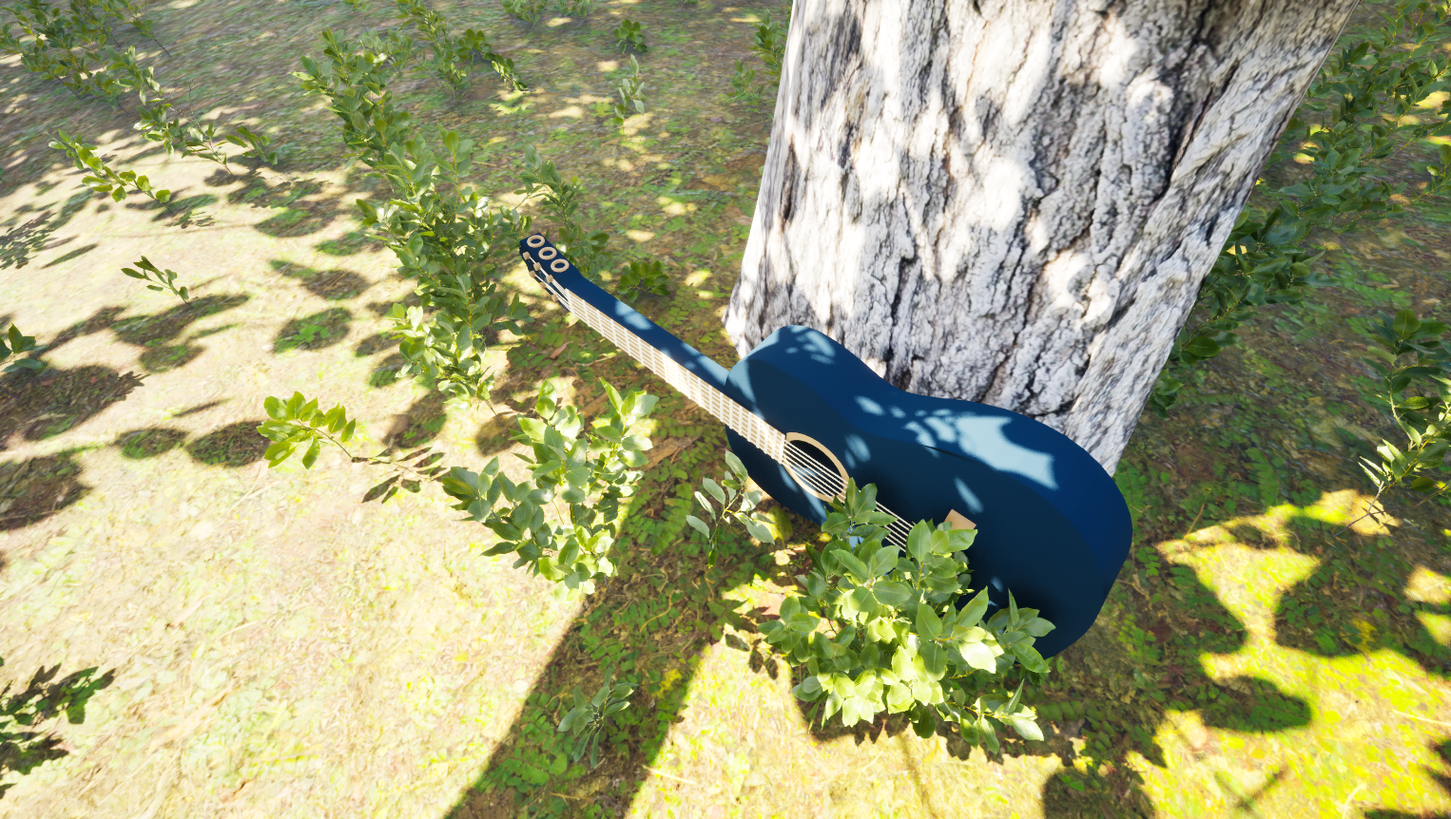Guitar: (472, 137, 1200, 696)
